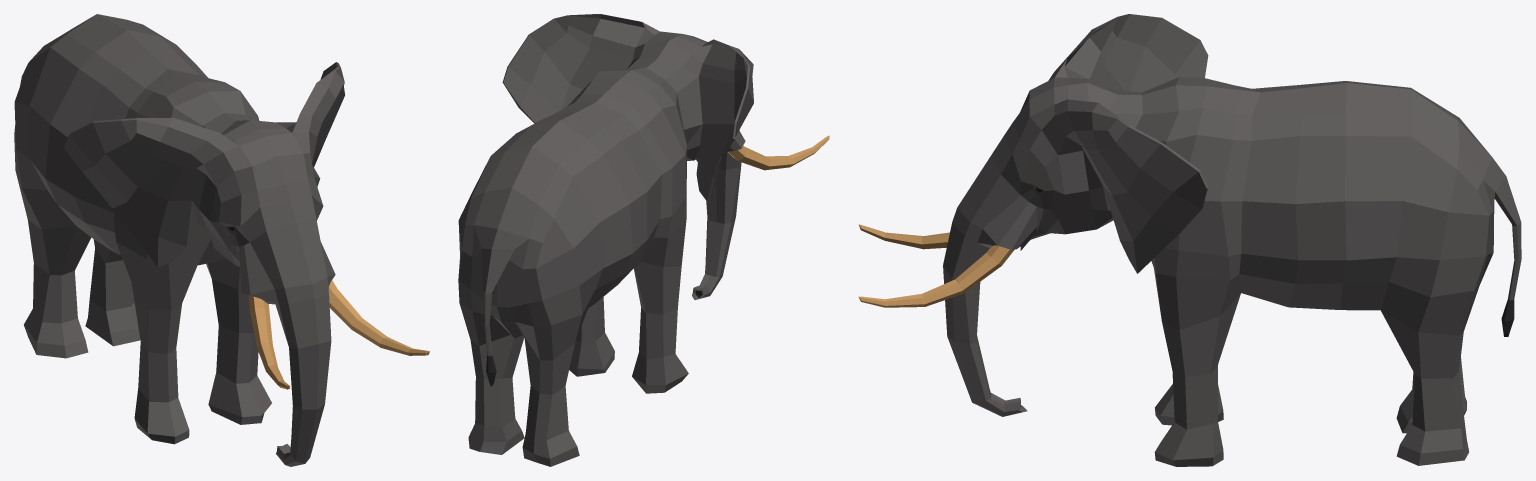
File: elephant.glb
3 views of the same model, side by side, from view 1: azimuth 30°, elevation 25°; view 2: azimuth 150°, elevation 25°; view 3: azimuth 270°, elevation 25° (orthographic). The views are drawn at different scales.
Visible parts, largest first — view 1: elephant; view 2: elephant; view 3: elephant.
Part boxes in pixels (x1,y1,x2,y2): elephant: (14,14,429,466); elephant: (458,14,829,466); elephant: (858,14,1521,466).
Bounding box in the file's own units: 2.96 × 3.85 × 6.19.
1 material, 1 textured.
